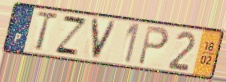1: (122, 22, 141, 66)
2: (167, 29, 198, 73)
P: (136, 24, 170, 67)
T: (34, 11, 60, 53)
V: (90, 16, 119, 61)
Z: (53, 14, 90, 58)
